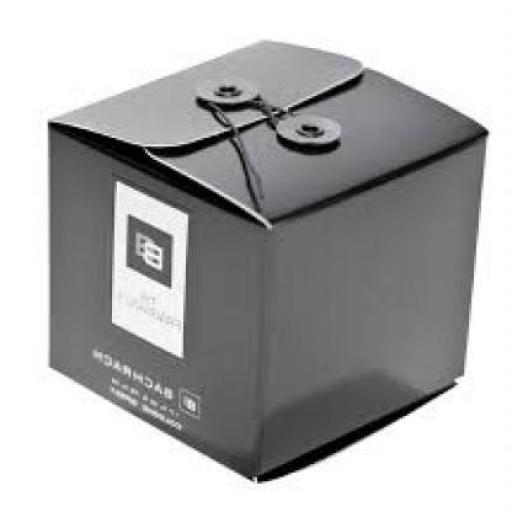cardboard: (52, 39, 490, 479)
